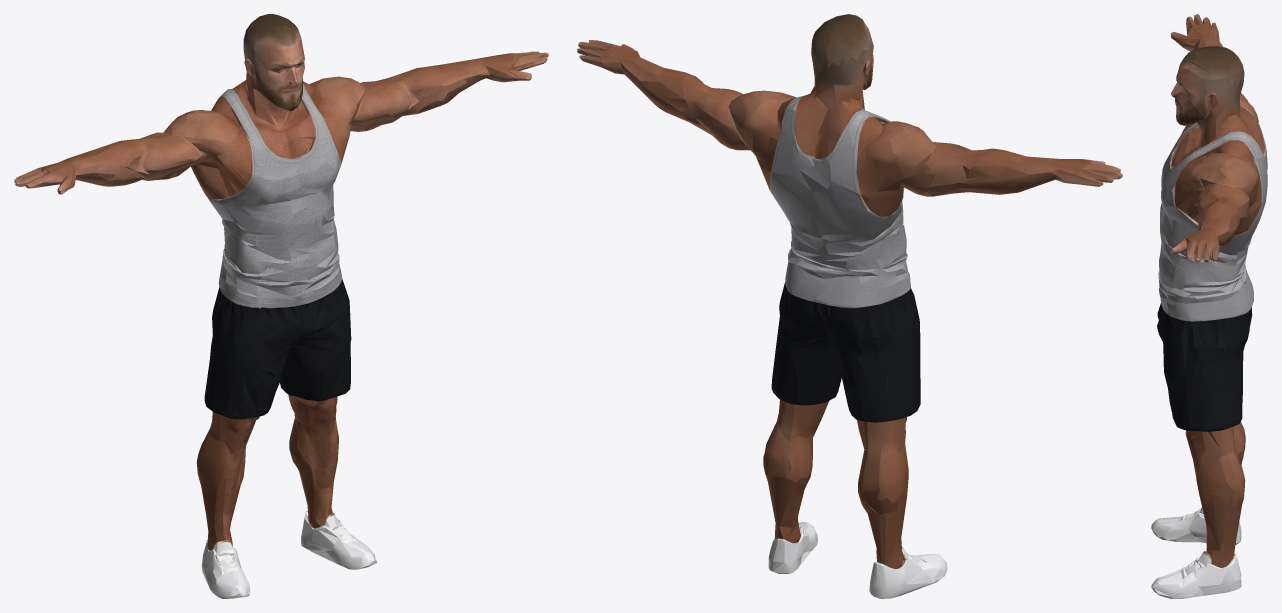
The model's file is image3d.glb.
The picture shows the model from 3 angles, left to right: view 1: azimuth 30°, elevation 25°; view 2: azimuth 150°, elevation 25°; view 3: azimuth 270°, elevation 25°; orthographic projection. The views are drawn at different scales.
Bounding box in the file's own units: 1.9 × 1.86 × 0.3807.
1 material, 1 textured.
